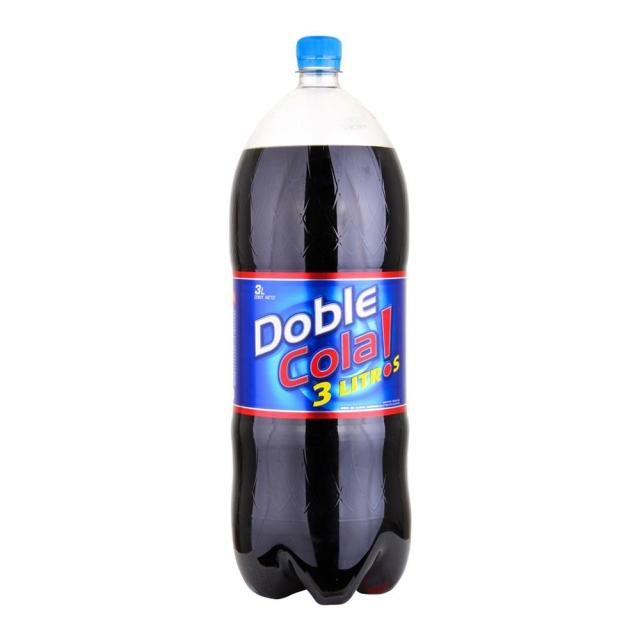doble cola: (192, 26, 444, 610)
